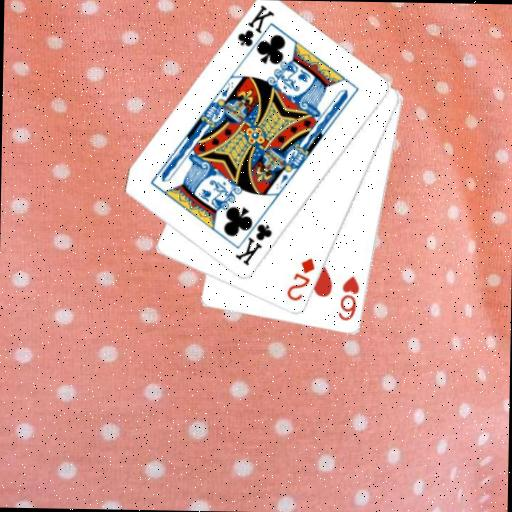2D: (284, 255, 317, 304)
6H: (336, 273, 362, 323)
KC: (232, 211, 274, 269), (234, 2, 276, 60)
